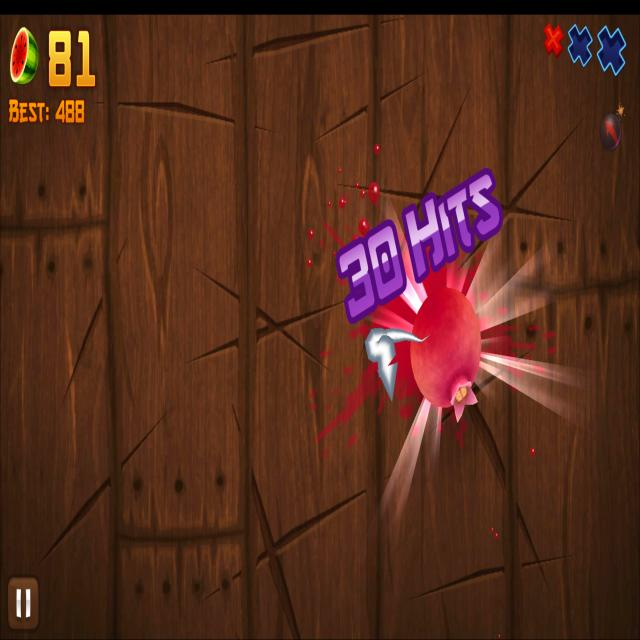fruit: (410, 286, 480, 426)
